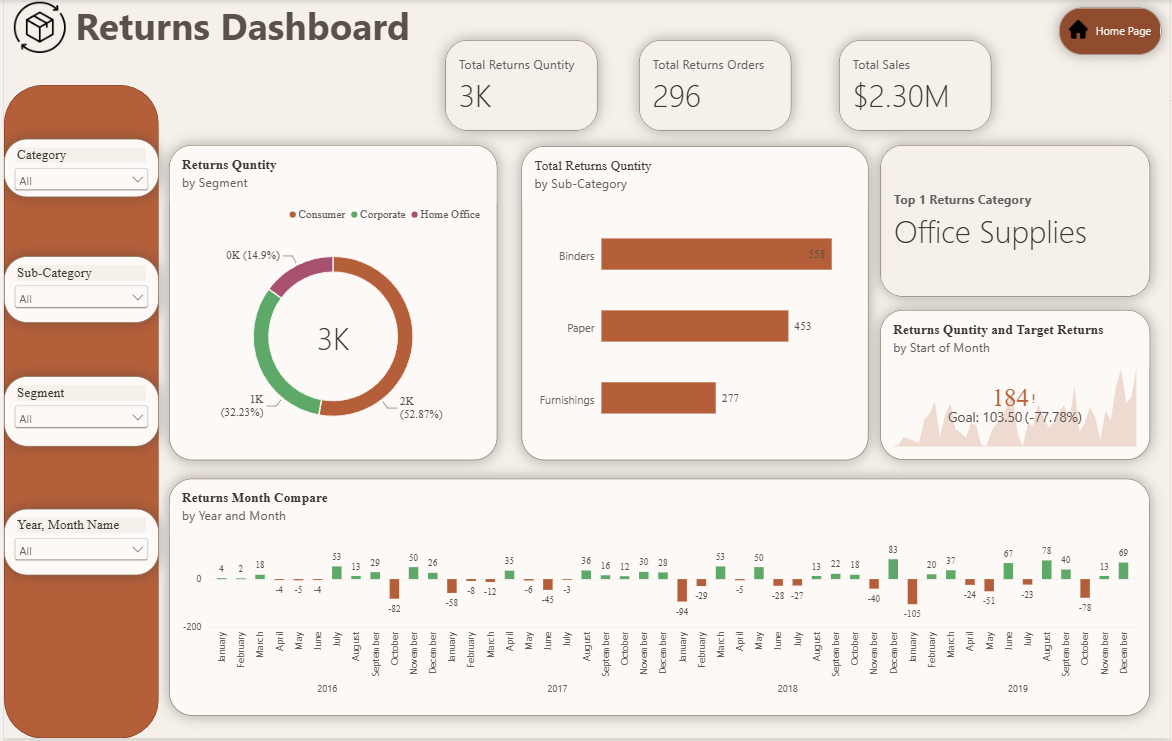

The page's visual inventory and layout, read from the dashboard file:
{"tool":"powerbi","page":{"name":"Returns Dashboard","canvas":[1500,950],"ordinal":4},"visuals":[{"type":"actionButton","box":[1357.2,9.6,131.9,61.1],"z":0},{"type":"image","box":[1357.2,25.7,49.9,24.1],"z":1000},{"type":"textbox","box":[91.7,0,530.7,70.8],"z":2000},{"type":"image","box":[0,0,91.7,70.8],"z":3000},{"type":"shape","box":[0,109.5,199,840.5],"z":4000},{"type":"cardVisual","fields":{"Data":["Orders.Total Returns Quntity"]},"box":[567.6,51.5,196.2,117.2],"z":5000},{"type":"cardVisual","fields":{"Data":["Orders.Total Sales"]},"box":[1074.2,51.5,196.2,117.2],"z":7000},{"type":"columnChart","title":"Returns Month Compare","fields":{"Category":["Calendar.Year","Calendar.Month Name"],"Y":["Orders.Month Compare"]},"box":[212.2,616.3,1261.2,304.8],"z":8000},{"type":"slicer","fields":{"Values":["Orders.Category"]},"box":[0,178.5,199.4,75.6],"z":9000},{"type":"slicer","fields":{"Values":["Orders.Sub-Category"]},"box":[0,329.7,199.4,85.2],"z":10000},{"type":"slicer","fields":{"Values":["Orders.Segment"]},"box":[0,484,199.4,90.1],"z":11000},{"type":"slicer","fields":{"Values":["Calendar.Year","Calendar.Month Name"]},"box":[0,654.5,199.4,85.2],"z":12000},{"type":"cardVisual","fields":{"Data":["Min(Orders.Category)"]},"box":[1126.5,186.9,346.9,195.3],"z":13000},{"type":"donutChart","title":"Returns Quntity","fields":{"Category":["Orders.Segment"],"Y":["Orders.Total Returns Quntity"]},"box":[212.2,186.9,422.7,405.8],"z":14000},{"type":"barChart","fields":{"Category":["Orders.Sub-Category"],"Y":["Orders.Total Returns Quntity"]},"box":[665.1,188.6,446.2,404.1],"z":15000},{"type":"kpi","title":" Returns Quntity and Target Returns","fields":{"Goal":["Orders.Target Returns"],"Indicator":["Orders.Total Returns Quntity"],"TrendLine":["Calendar.Start of Month"]},"box":[1126.5,399.1,347,193],"z":15001},{"type":"cardVisual","fields":{"Data":["Orders.Total Returns Orders"]},"box":[816.7,52.2,196.2,117.2],"z":15002}]}

Visuals, with their boxes in screenshot pixels (x1, y1, x2, y2), scaled from the page's 1500x950 canvas onto the 1172x741 screenshot:
actionButton: x1=1060, y1=7, x2=1163, y2=55
image: x1=1060, y1=20, x2=1099, y2=39
textbox: x1=72, y1=0, x2=486, y2=55
image: x1=0, y1=0, x2=72, y2=55
shape: x1=0, y1=85, x2=155, y2=740
cardVisual - Orders.Total Returns Quntity: x1=443, y1=40, x2=597, y2=132
cardVisual - Orders.Total Sales: x1=839, y1=40, x2=993, y2=132
"Returns Month Compare" columnChart: x1=166, y1=481, x2=1151, y2=718
slicer - Orders.Category: x1=0, y1=139, x2=156, y2=198
slicer - Orders.Sub-Category: x1=0, y1=257, x2=156, y2=324
slicer - Orders.Segment: x1=0, y1=378, x2=156, y2=448
slicer - Calendar.Year x Calendar.Month Name: x1=0, y1=511, x2=156, y2=577
cardVisual - Min(Orders.Category): x1=880, y1=146, x2=1151, y2=298
"Returns Quntity" donutChart: x1=166, y1=146, x2=496, y2=462
barChart - Orders.Sub-Category x Orders.Total Returns Quntity: x1=520, y1=147, x2=868, y2=462
" Returns Quntity and Target Returns" kpi: x1=880, y1=311, x2=1151, y2=462
cardVisual - Orders.Total Returns Orders: x1=638, y1=41, x2=791, y2=132
